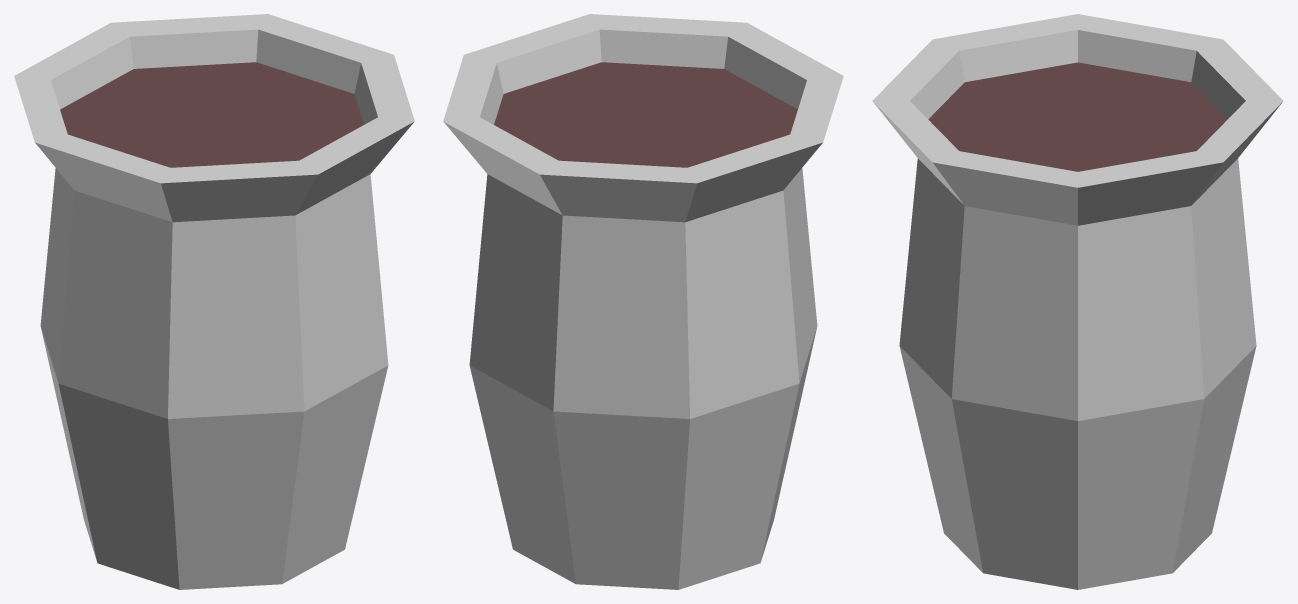
File: Vase7.fbx
The picture shows the model from 3 angles, left to right: view 1: azimuth 30°, elevation 25°; view 2: azimuth 150°, elevation 25°; view 3: azimuth 270°, elevation 25°; orthographic projection.
Parts seen in each view (by area): view 1: Vase7; view 2: Vase7; view 3: Vase7.
Part boxes in pixels (bbox=[...]): Vase7: bbox=[14, 14, 414, 589]; Vase7: bbox=[443, 14, 843, 589]; Vase7: bbox=[872, 14, 1283, 589].
Size of the model in its own units: 2.57 by 2.98 by 2.57.
